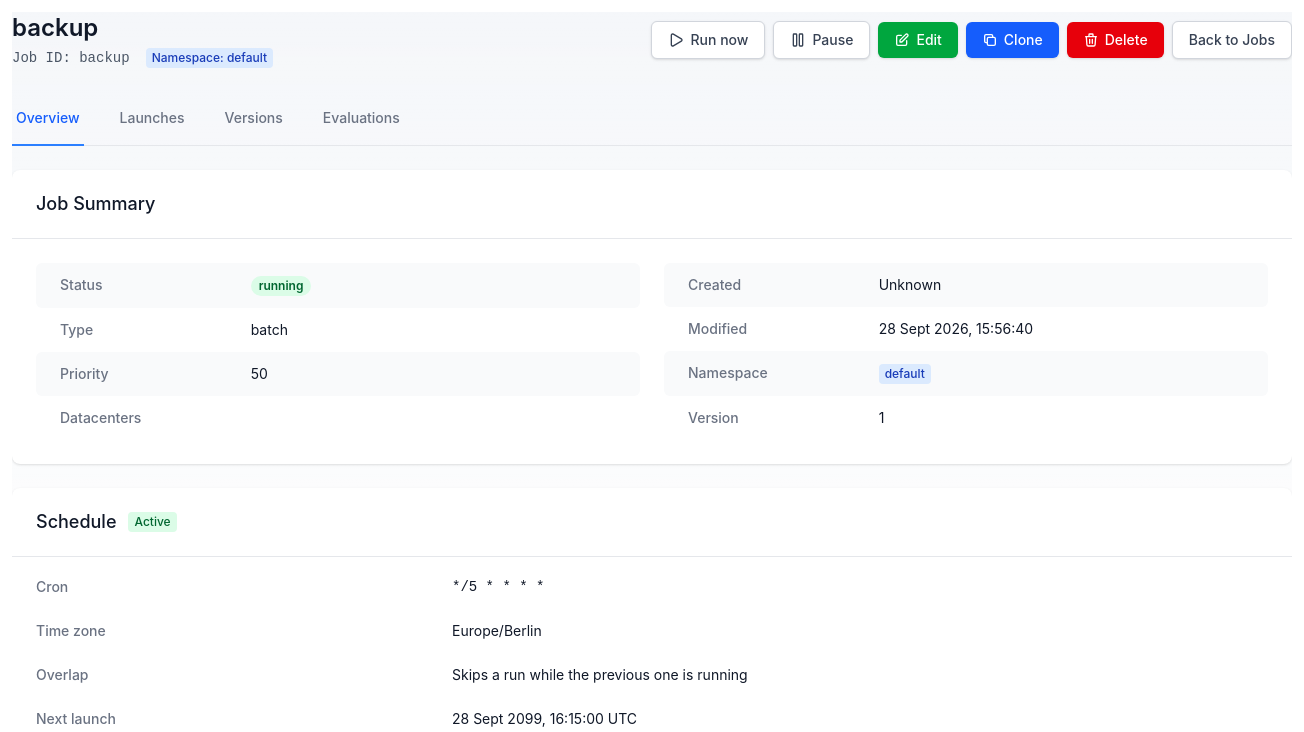
Test: JobDetailPage for a periodic job › shows the schedule, the actions and the launches
The width and height of the screenshot is (1304, 732).
Check: the heading "Schedule" is shown, box left=36, top=508, right=116, bottom=536
Check: the text "*/5 * * * *" is shown, box left=452, top=579, right=544, bottom=595
Click the button "Launches". click: (152, 119)
box: left=116, top=92, right=188, bottom=146
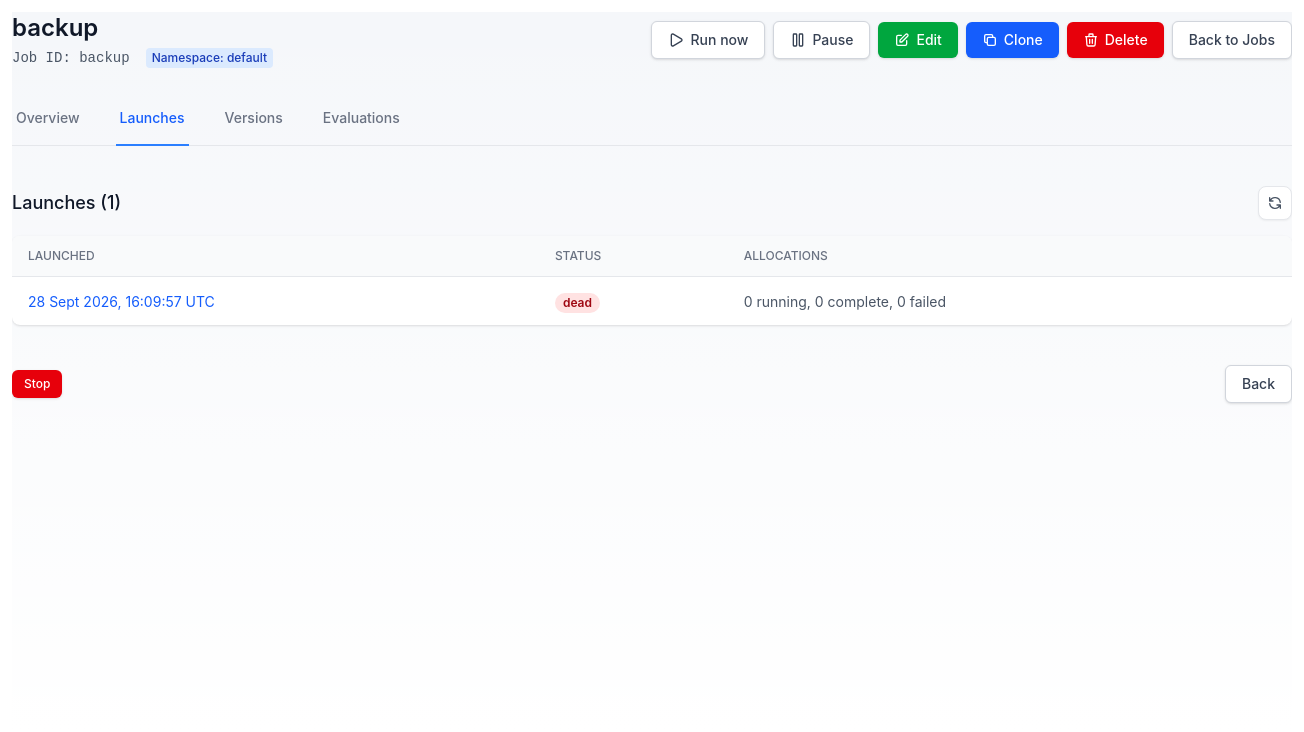
Check: the heading "Launches (1)" is shown, box left=12, top=189, right=121, bottom=217
